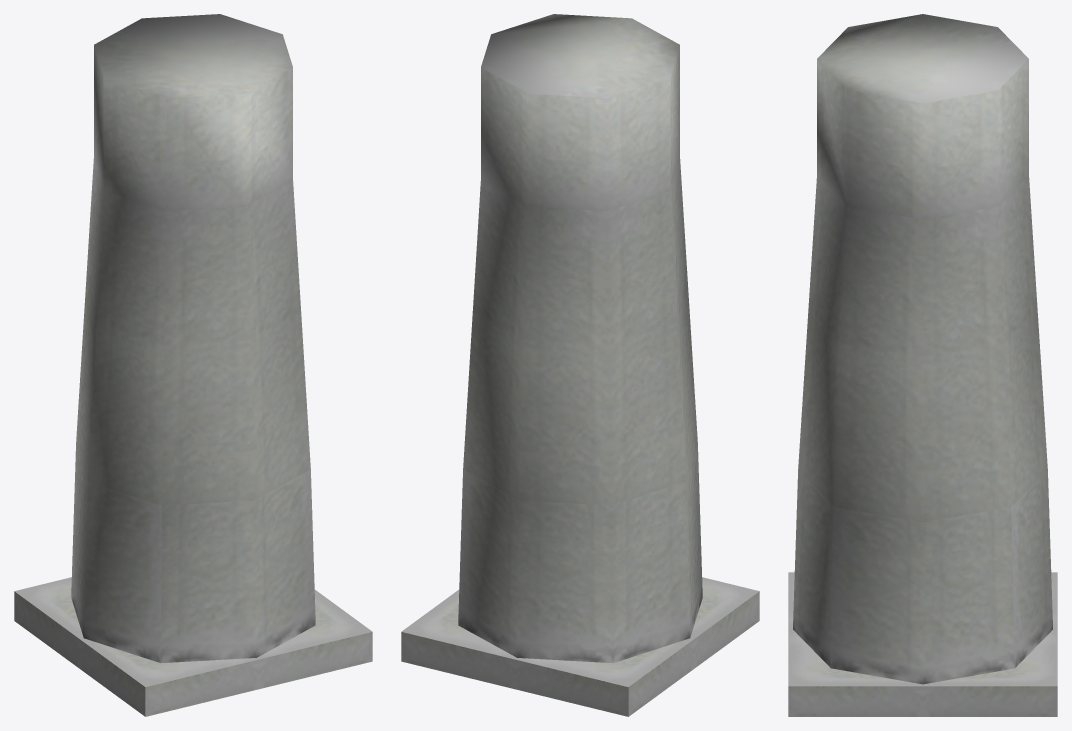
Rendered from general_obj_bigtower10.fbx.
3 views of the same model, side by side, from view 1: azimuth 30°, elevation 25°; view 2: azimuth 150°, elevation 25°; view 3: azimuth 270°, elevation 25° (orthographic). The views are drawn at different scales.
Visible parts, largest first — view 1: Sphere01; view 2: Sphere01; view 3: Sphere01.
Part boxes in pixels (x1=…): Sphere01: x1=14, y1=14, x2=372, y2=716; Sphere01: x1=401, y1=14, x2=759, y2=716; Sphere01: x1=788, y1=14, x2=1057, y2=716.
Size of the model in its own units: 4 by 9.84 by 4.
